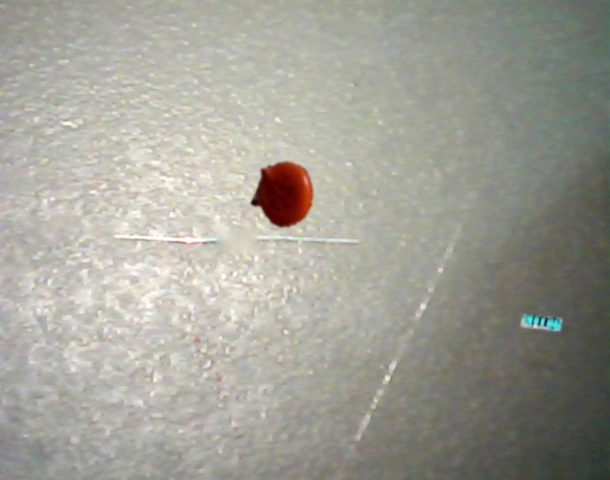capacitor: (251, 161, 313, 227)
resistor: (521, 314, 562, 331)
